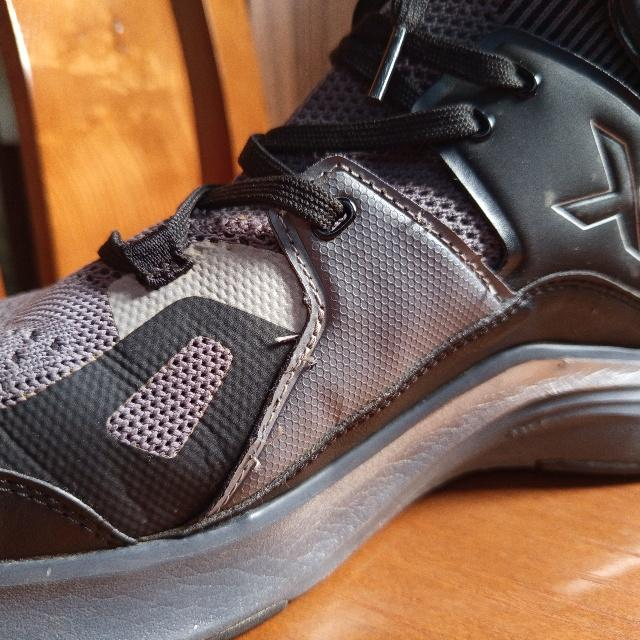broken-error: (245, 419, 287, 476), (407, 208, 434, 238)
